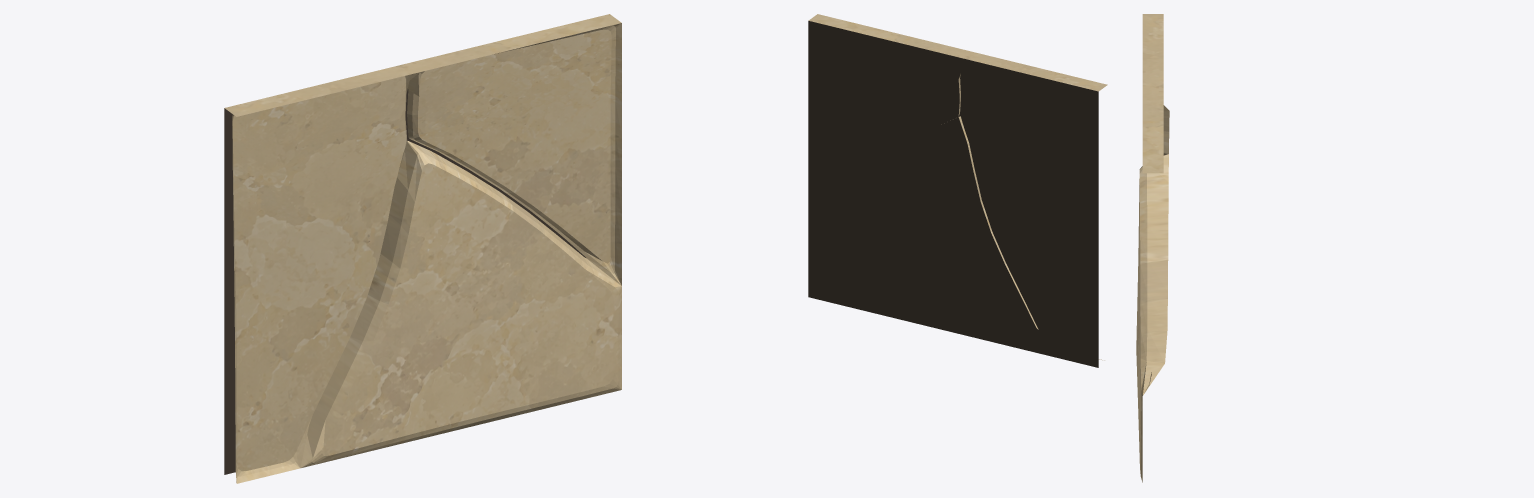
The model's file is ground_edge_09.glb.
The picture shows the model from 3 angles, left to right: view 1: azimuth 30°, elevation 25°; view 2: azimuth 150°, elevation 25°; view 3: azimuth 270°, elevation 25°; orthographic projection. The views are drawn at different scales.
Parts seen in each view (by area): view 1: GroundEdge09_Body; view 2: GroundEdge09_Body; view 3: GroundEdge09_Body.
Part boxes in pixels (x1,y1,x2,y2): GroundEdge09_Body: (224, 14, 621, 483); GroundEdge09_Body: (808, 14, 1107, 367); GroundEdge09_Body: (1136, 14, 1169, 482).
Size of the model in its own units: 1 by 0.91 by 1.02.
5 materials, 4 textured.
